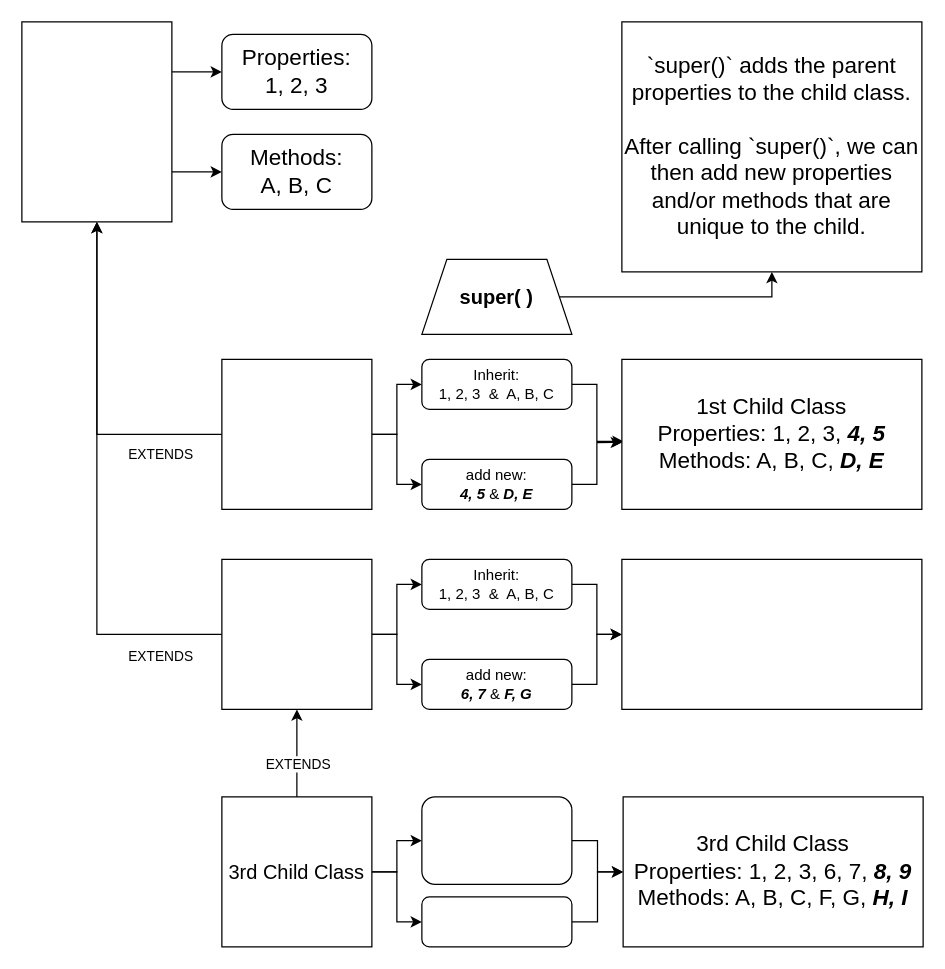
Some shapes in this 945 by 969 pixel diagram are drawn without their labels. The shapes that lost their labels are listed below. From the top down, each one's centre as x and y in pixels, then its label:
point 96,121: Parent Class
point 296,433: 1st Child Class
point 296,633: 2nd Child Class
point 771,633: 2nd Child Class Properties: 1, 2, 3, 6, 7 Methods: A, B, C, F, G
point 496,840: Inherit: 1, 2, 3, 6, 7 & A, B, C, F, G
point 496,921: add new: 8, 9 & H, I
